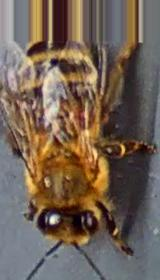varroa_mite: (66, 99, 98, 130)
